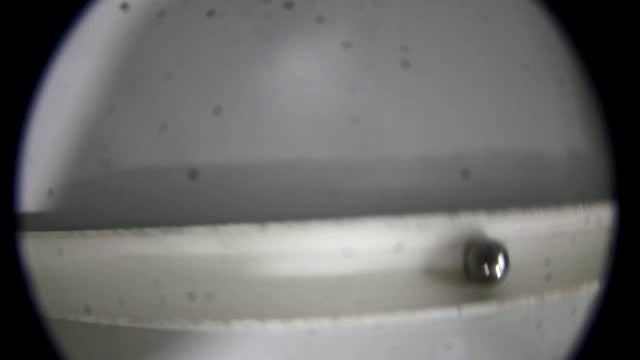gangzhu: (461, 236, 512, 287)
